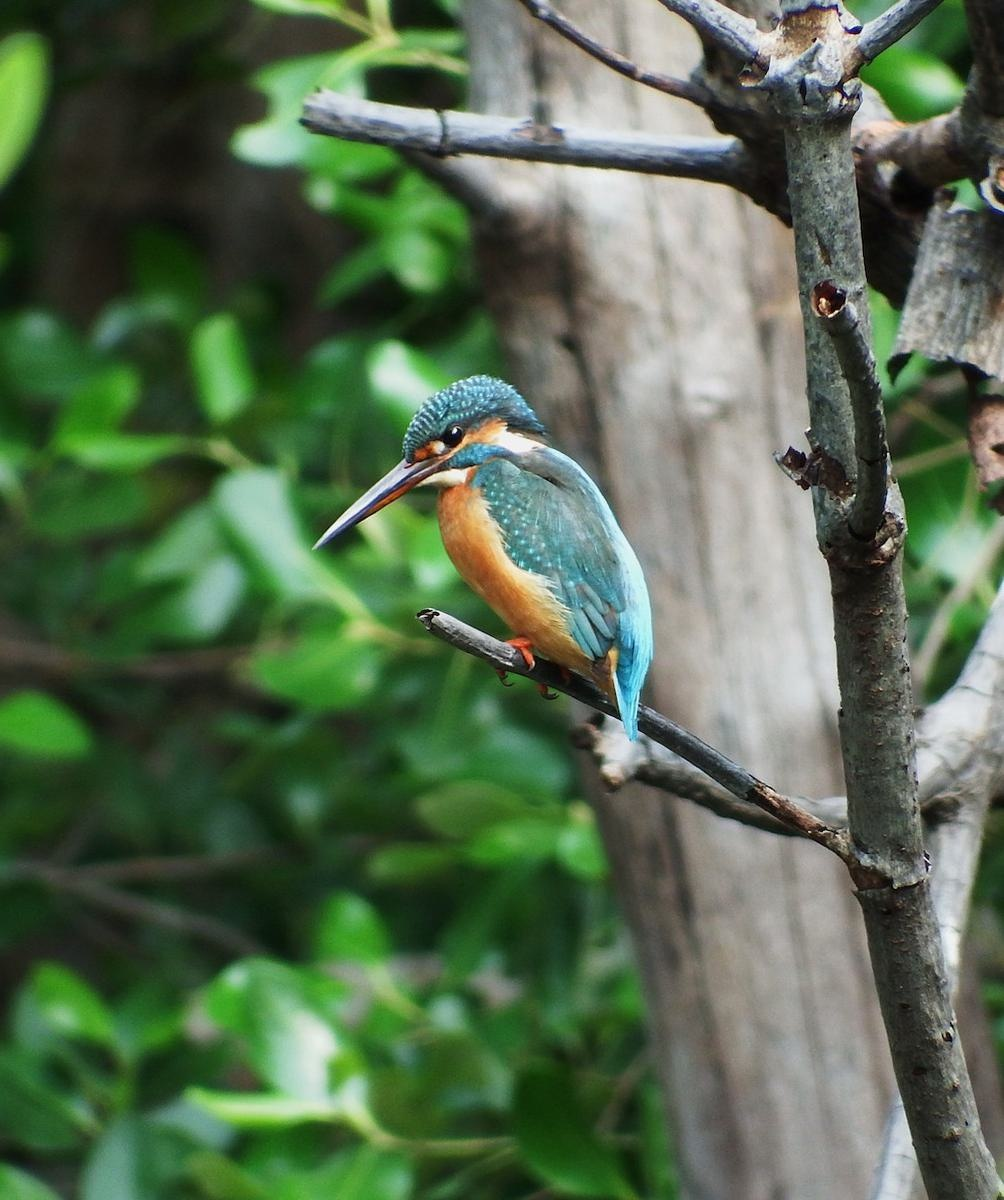kingfisher: (314, 341, 712, 784)
